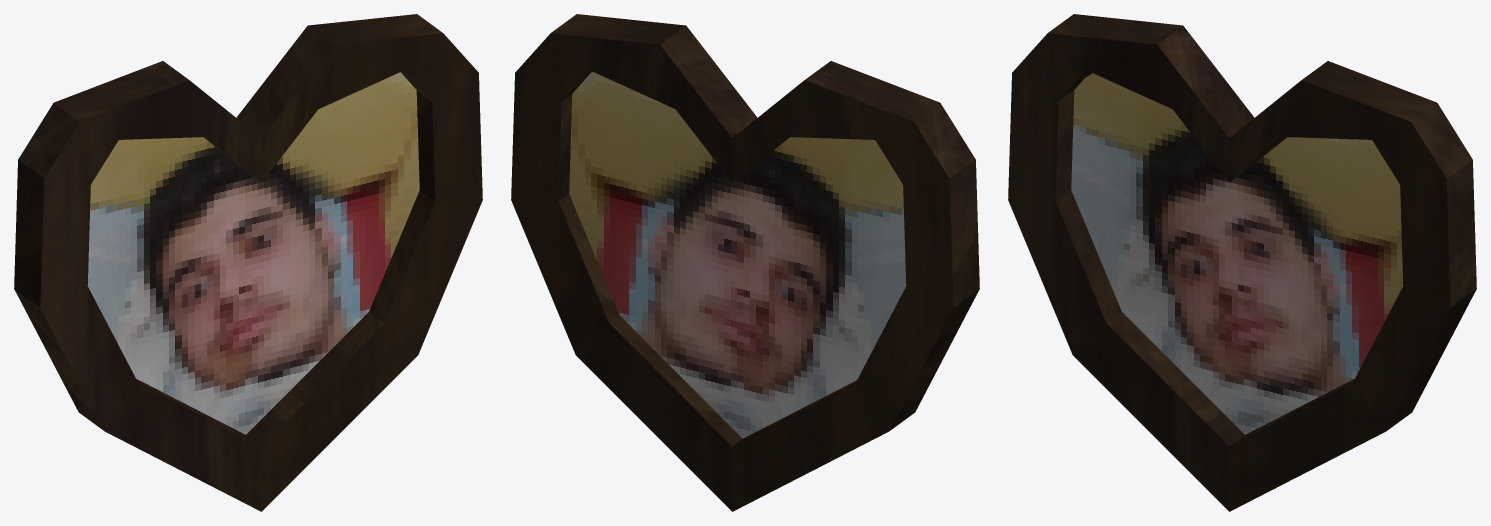
The model's file is quadro-leonan.glb.
3 renders of one model, left to right at view 1: azimuth 30°, elevation 25°; view 2: azimuth 150°, elevation 25°; view 3: azimuth 330°, elevation 25°, orthographic.
Visible parts, largest first — view 1: Cube, leonan sky; view 2: Cube, leonan sky; view 3: Cube, leonan sky.
Boxes of the visible parts, x1,y1,x2,y2 form: Cube: (14,14,482,511); leonan sky: (87,72,419,434); Cube: (511,14,979,511); leonan sky: (569,72,906,438); Cube: (1008,14,1476,511); leonan sky: (1071,73,1403,434).
Bounding box in the file's own units: 2.27 × 2.2 × 0.2327.
Materials: 2 (2 with a texture image).
